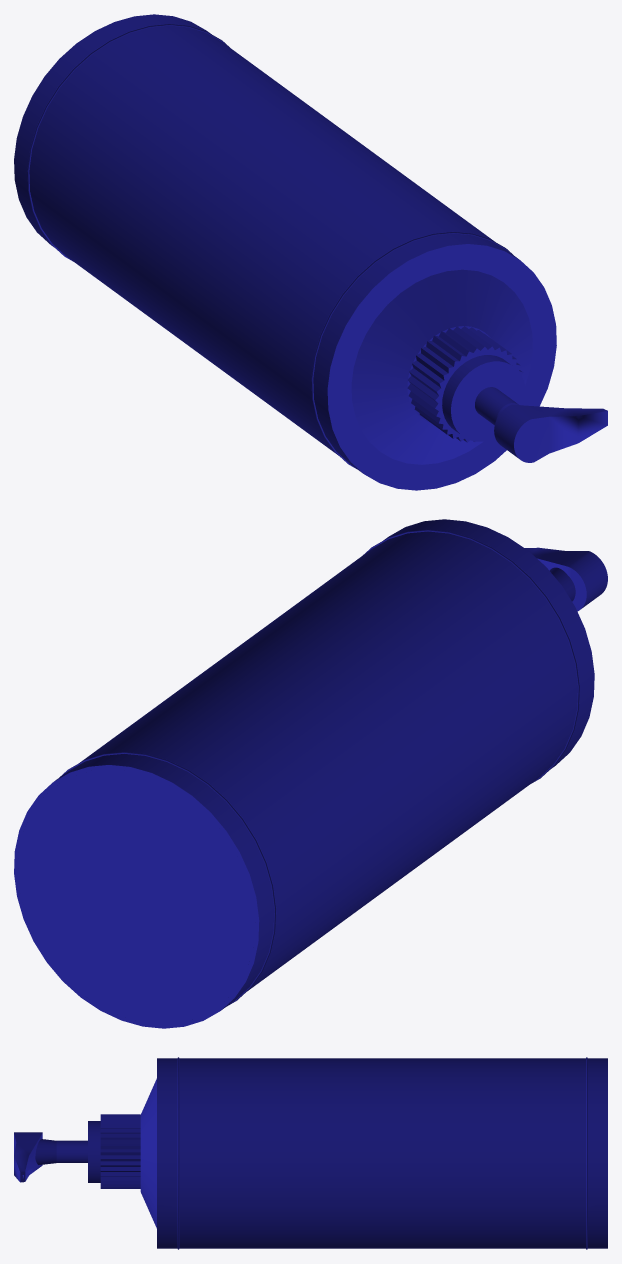
Rendered from model_scale.obj.
3 renders of one model, top to bottom at view 1: azimuth 30°, elevation 25°; view 2: azimuth 150°, elevation 25°; view 3: azimuth 270°, elevation 25°, orthographic. The views are drawn at different scales.
Parts seen in each view (by area): view 1: mesh12_mesh12-geometry, mesh1_mesh1-geometry, mesh8_mesh8-geometry; view 2: mesh12_mesh12-geometry, mesh8_mesh8-geometry; view 3: mesh12_mesh12-geometry, mesh1_mesh1-geometry, mesh8_mesh8-geometry.
Boxes of the visible parts, x1,y1,x2,y2 form: mesh12_mesh12-geometry: (14, 14, 556, 490); mesh1_mesh1-geometry: (407, 326, 525, 442); mesh8_mesh8-geometry: (494, 404, 607, 462); mesh12_mesh12-geometry: (14, 519, 594, 1028); mesh8_mesh8-geometry: (525, 547, 607, 611); mesh12_mesh12-geometry: (140, 1057, 607, 1249); mesh1_mesh1-geometry: (35, 1114, 140, 1188); mesh8_mesh8-geometry: (14, 1132, 42, 1182).
Bounding box in the file's own units: 0.0575 × 0.0575 × 0.1777.
